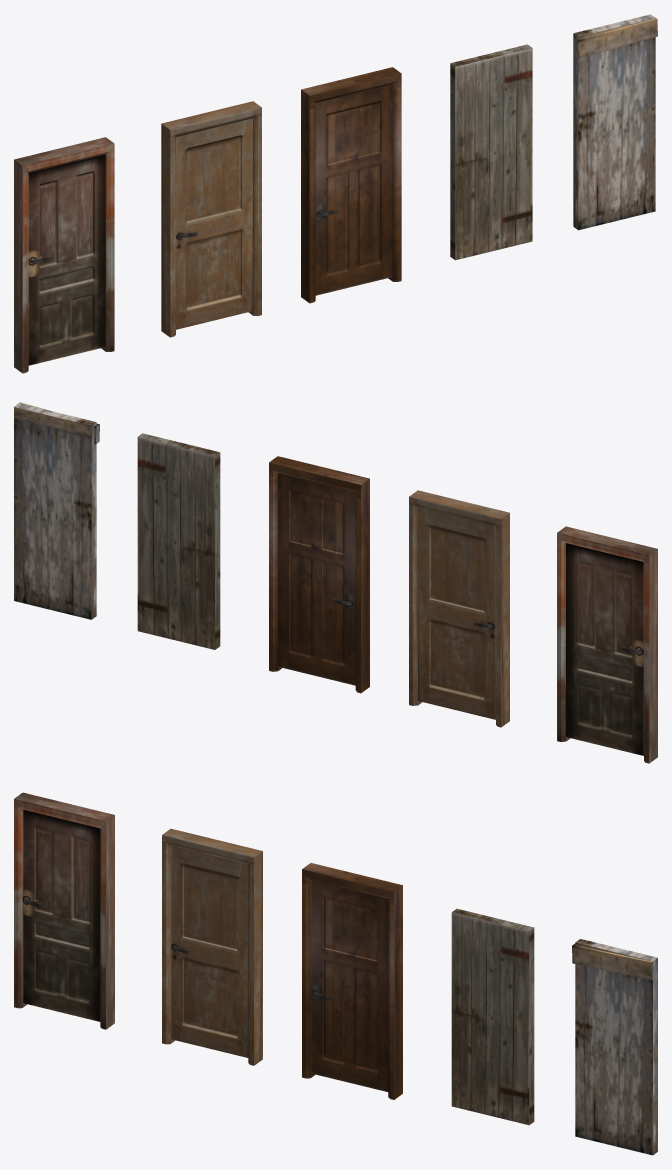
The model's file is low-poly_psx_style_worn_wooden_doors_pack.glb.
3 renders of one model, top to bottom at view 1: azimuth 30°, elevation 25°; view 2: azimuth 150°, elevation 25°; view 3: azimuth 330°, elevation 25°, orthographic.
Parts seen in each view (by area): view 1: Worn Door_001, Worn Door_002, Worn Door_004, Worn Door_006, Worn Door_005, Worn Doorframe_006, Worn Doorframe_004, Worn Doorframe_005; view 2: Worn Door_002, Worn Door_001, Worn Door_004, Worn Door_005, Worn Door_006, Worn Doorframe_004, Worn Doorframe_005, Worn Doorframe_006; view 3: Worn Door_002, Worn Door_001, Worn Door_004, Worn Door_005, Worn Door_006, Worn Doorframe_005, Worn Doorframe_004, Worn Doorframe_006.
Boxes of the visible parts, box(x1,y1,x2,y2) form: Worn Door_001: box(573, 14, 657, 230); Worn Door_002: box(450, 44, 532, 260); Worn Door_004: box(315, 84, 392, 295); Worn Door_006: box(28, 154, 105, 365); Worn Door_005: box(176, 118, 252, 329); Worn Doorframe_006: box(14, 137, 114, 373); Worn Doorframe_004: box(301, 67, 401, 303); Worn Doorframe_005: box(161, 101, 261, 337); Worn Door_002: box(137, 433, 220, 649); Worn Door_001: box(14, 402, 99, 619); Worn Door_004: box(278, 473, 355, 685); Worn Door_005: box(418, 507, 495, 719); Worn Door_006: box(566, 543, 643, 755); Worn Doorframe_004: box(269, 456, 369, 693); Worn Doorframe_005: box(409, 490, 509, 727); Worn Doorframe_006: box(557, 526, 657, 763); Worn Door_002: box(451, 908, 534, 1125); Worn Door_001: box(572, 939, 657, 1155); Worn Door_004: box(311, 880, 388, 1091); Worn Door_005: box(171, 846, 248, 1057); Worn Door_006: box(23, 810, 100, 1021); Worn Doorframe_005: box(162, 828, 262, 1065); Worn Doorframe_004: box(302, 863, 402, 1099); Worn Doorframe_006: box(14, 792, 114, 1029).
Size of the model in its own units: 6.21 by 1.94 by 0.1732.
Materials: 1 (1 with a texture image).
